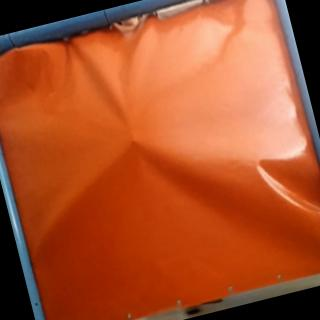Hit-hRxx: (121, 130, 142, 148)
